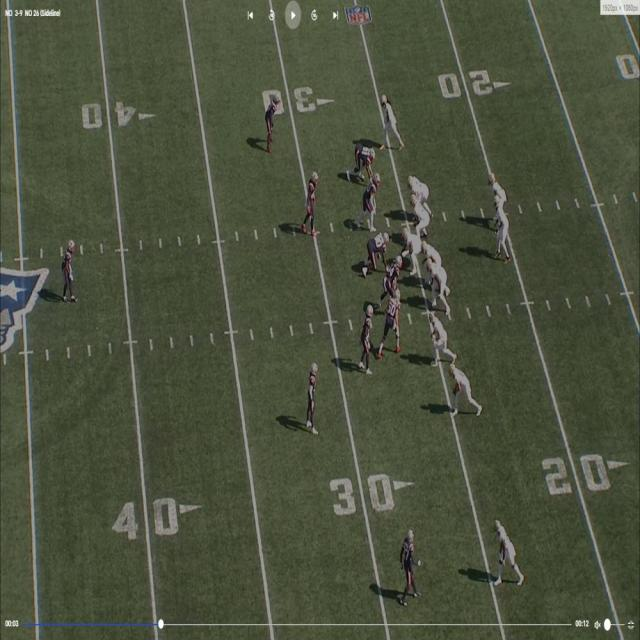center: (398, 228, 419, 266)
db: (403, 531, 420, 604), (59, 242, 78, 302), (359, 302, 374, 373), (308, 358, 318, 428), (268, 97, 280, 149)
lb: (386, 281, 401, 347), (361, 176, 378, 230), (306, 168, 319, 224)
qb: (496, 206, 511, 264)
skill: (497, 520, 518, 584), (450, 360, 472, 413), (430, 312, 452, 364), (381, 99, 399, 151), (493, 174, 507, 208)
